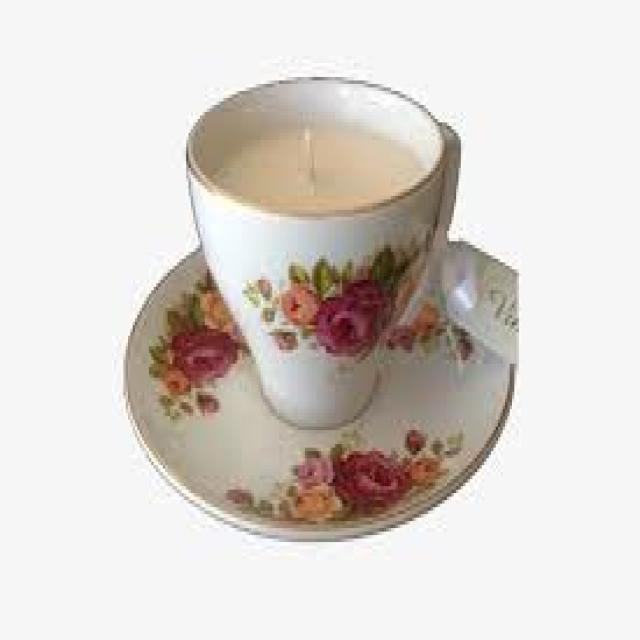taza: (172, 64, 458, 444)
